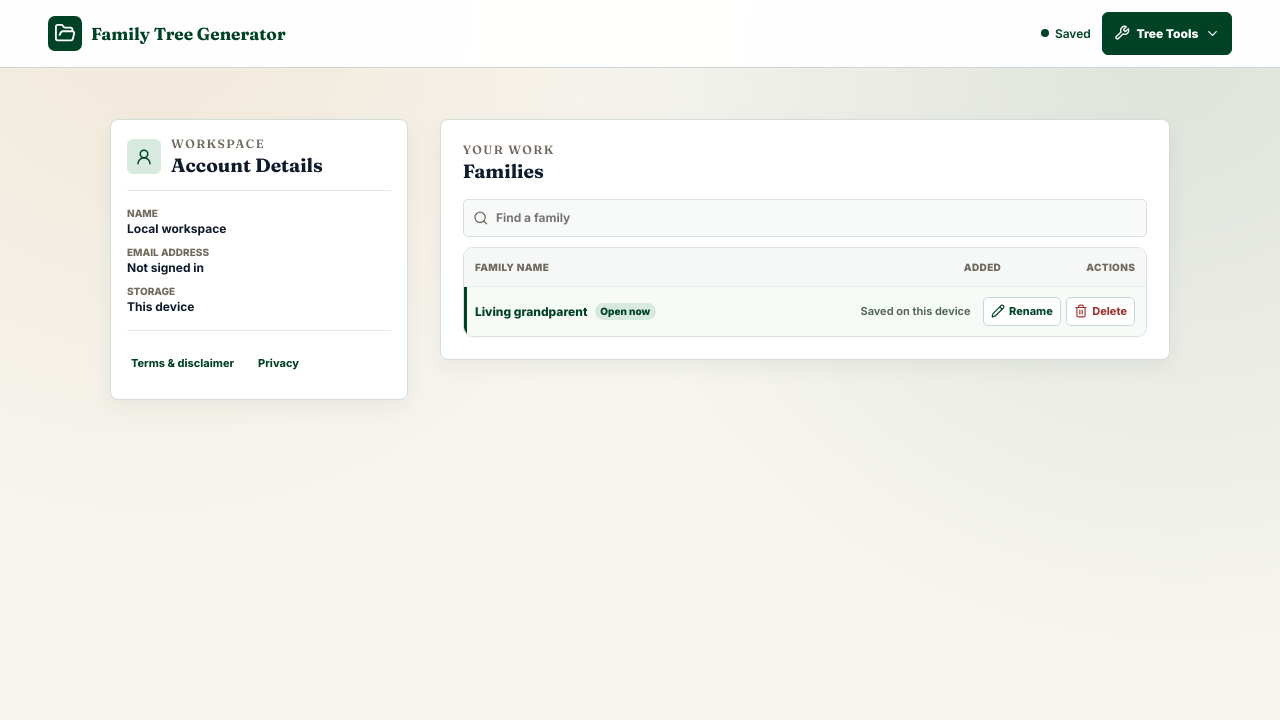
App local recovery › lets the user clear an automatically presumed older-generation death
Click the button with class "family-name-button": (531, 311) [475,303,850,320]
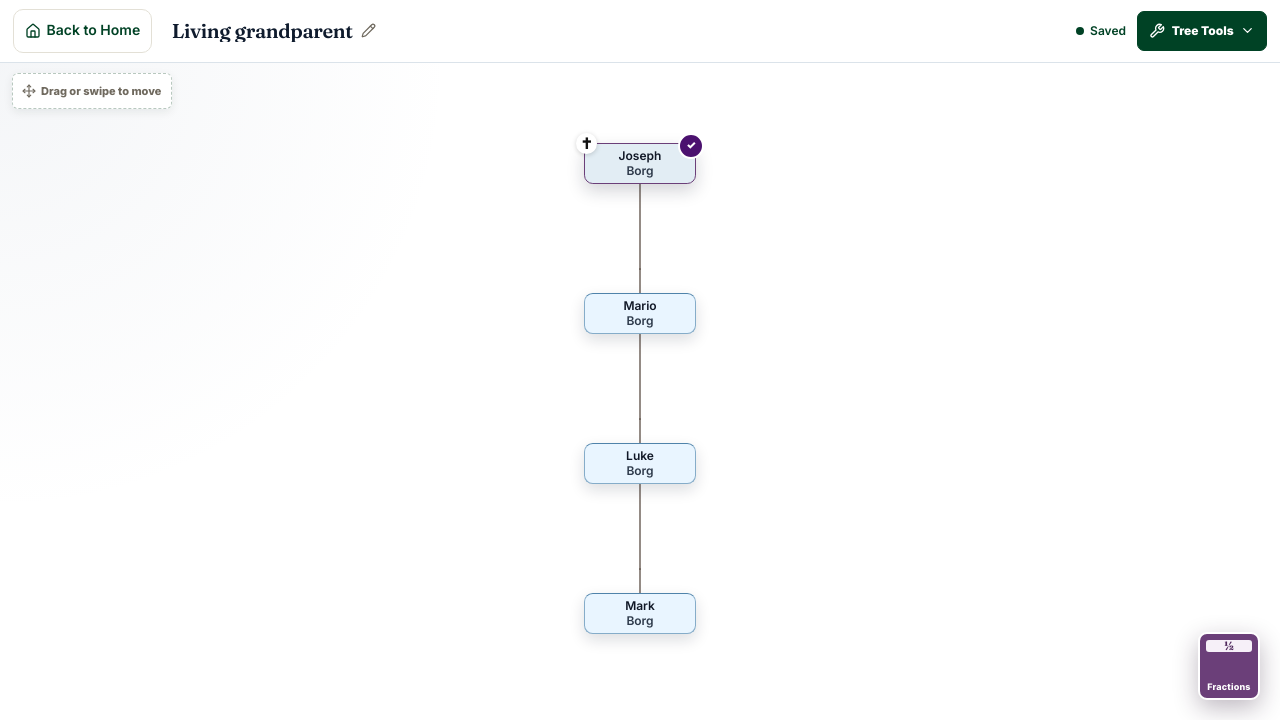
Click the button "Joseph Borg": (640, 164) [584,143,696,184]
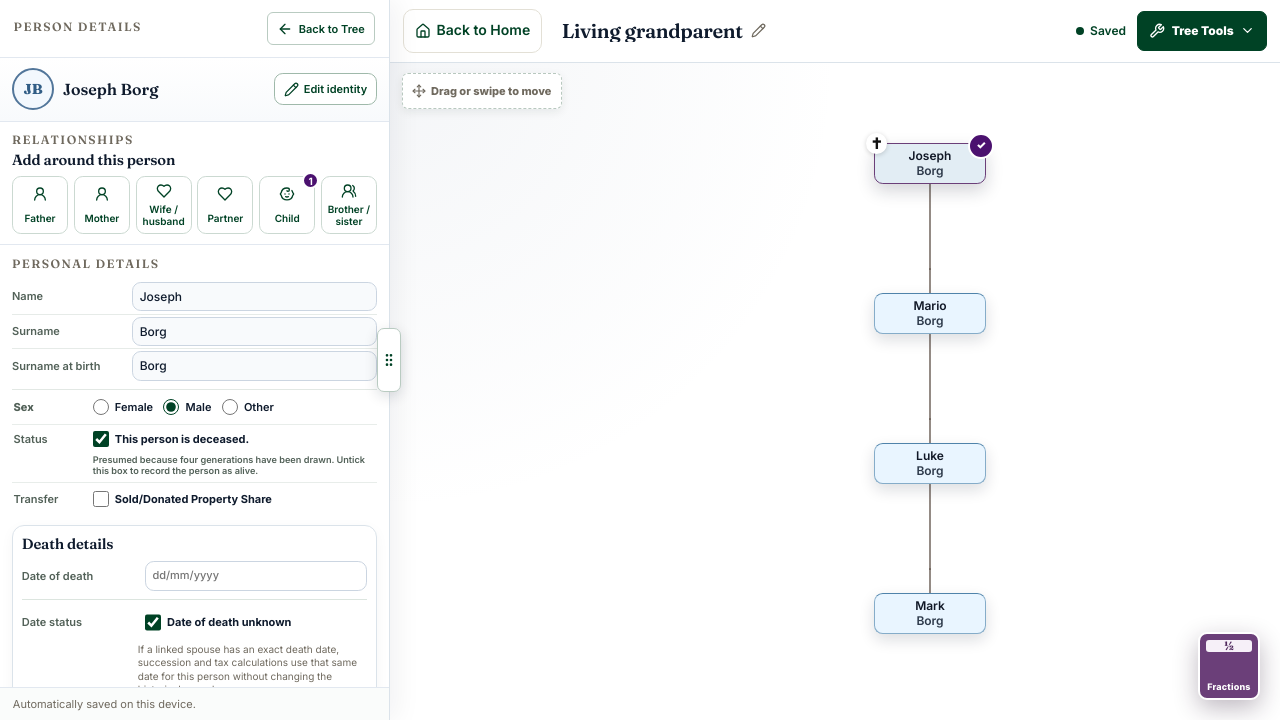
Now the 1st checkbox is checked
Now the text "Presumed because four generations have been drawn" is shown, box [93,454,365,476]
Click the 1st checkbox: (101, 439) [93,431,109,447]
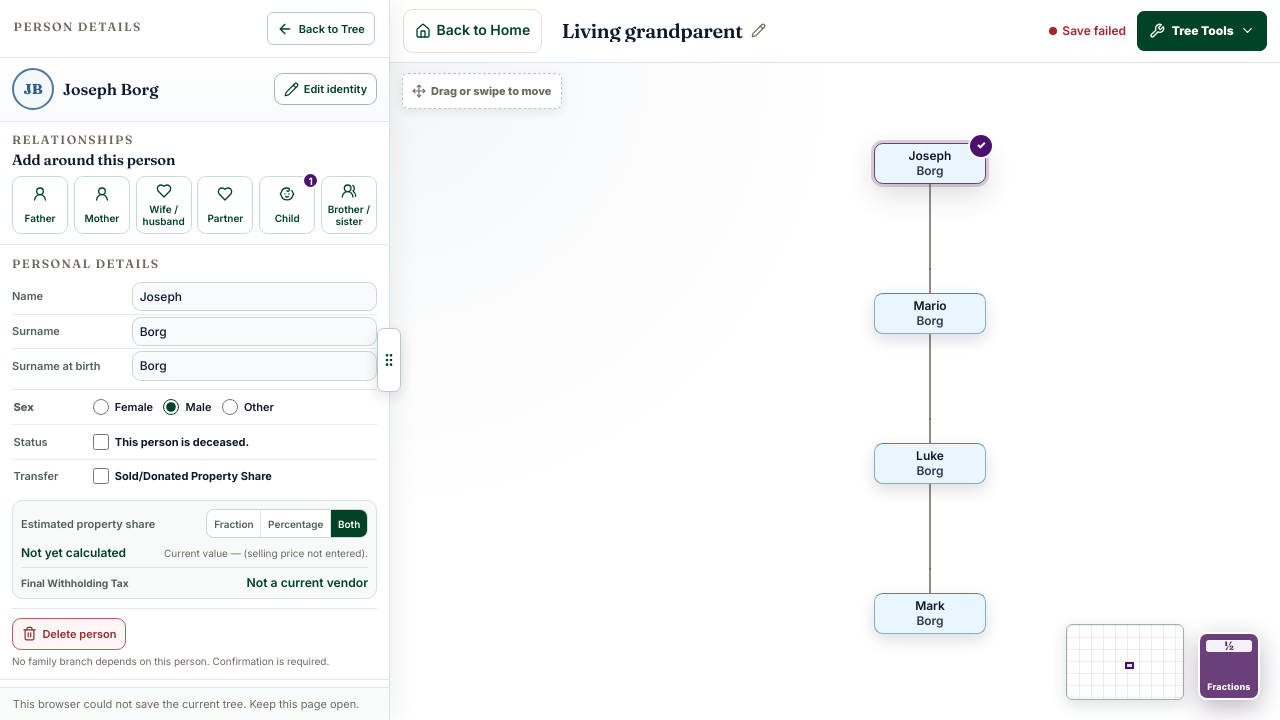
Now the checkbox labelled "Status This person is deceased." is not checked, box [93,434,109,450]
Now the text "Presumed because four generations have been drawn" is gone
